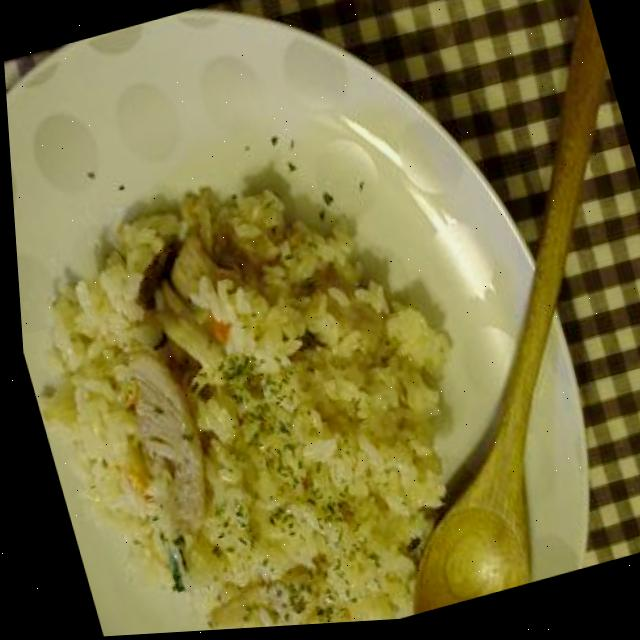米饭主食: (7, 110, 551, 640)
